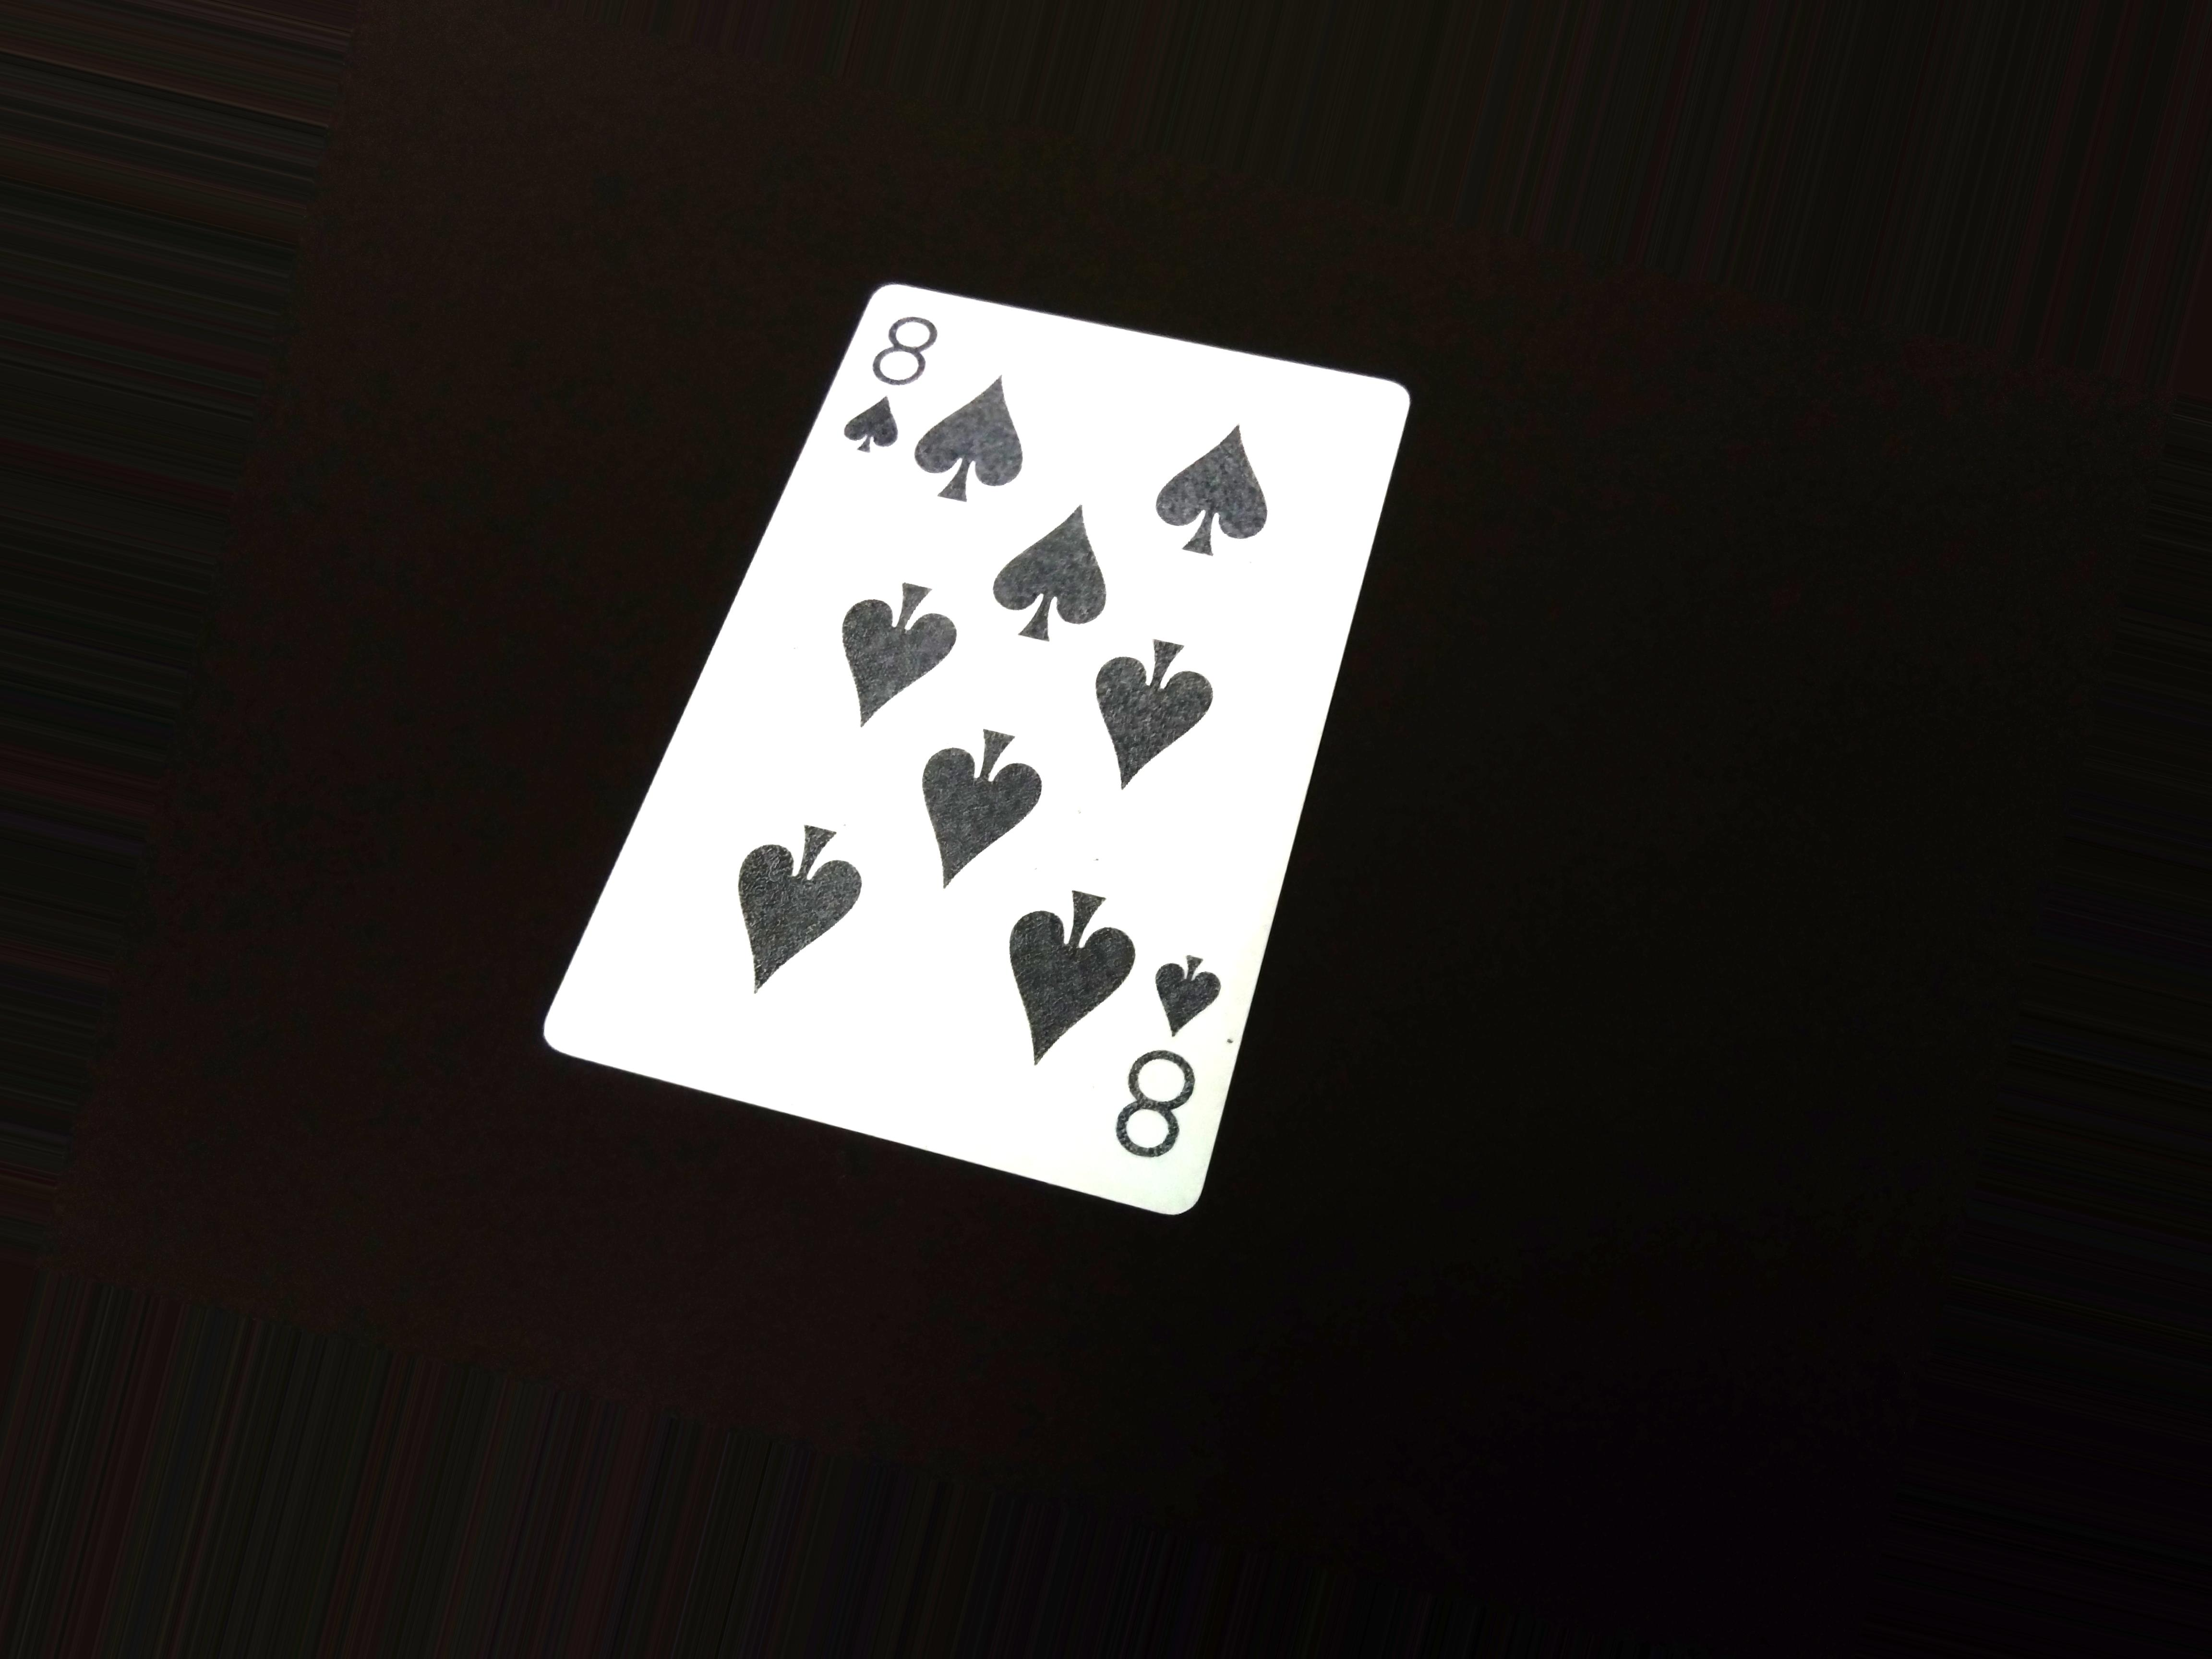8S: (845, 291, 930, 481)
